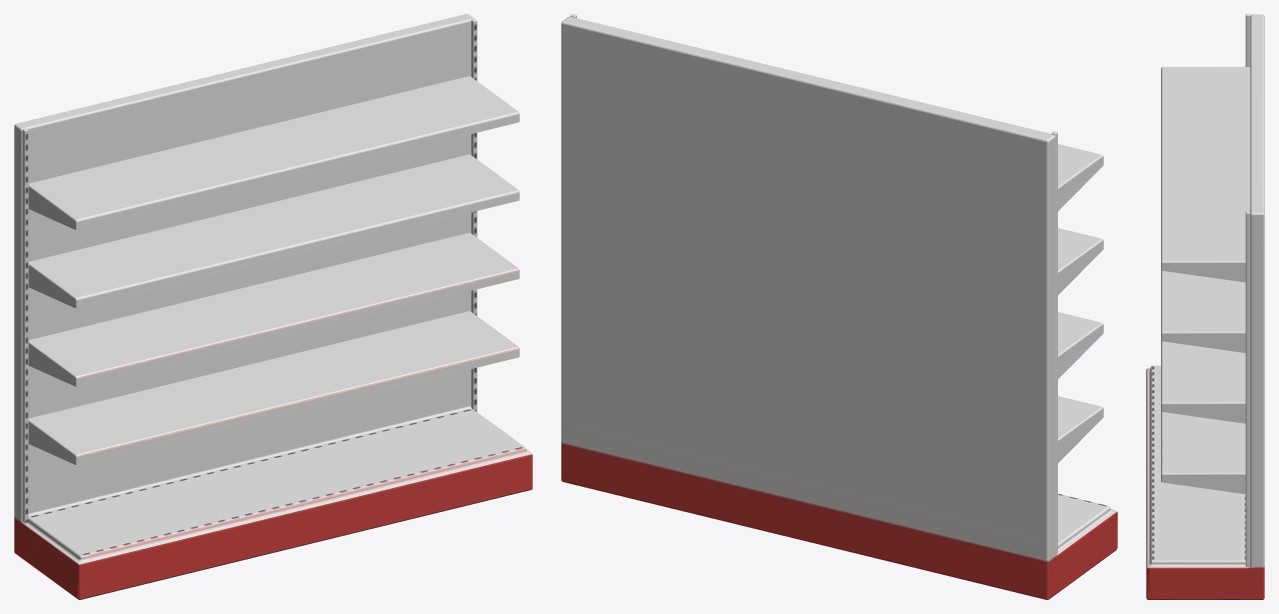
The model's file is store_shelf_wall.gltf.
3 views of the same model, side by side, from view 1: azimuth 30°, elevation 25°; view 2: azimuth 150°, elevation 25°; view 3: azimuth 270°, elevation 25° (orthographic). The views are drawn at different scales.
Visible parts, largest first — view 1: store_shelf_wall; view 2: store_shelf_wall; view 3: store_shelf_wall.
Part boxes in pixels (x1,y1,x2,y2): store_shelf_wall: (14, 14, 532, 599); store_shelf_wall: (561, 14, 1117, 599); store_shelf_wall: (1146, 14, 1264, 599).
Bounding box in the file's own units: 2.1 × 1.9 × 0.5258.
1 material, 1 textured.
